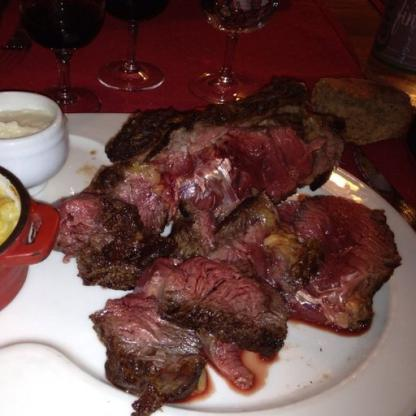beef: (93, 76, 332, 247), (222, 194, 392, 332), (96, 292, 213, 404), (150, 257, 278, 359), (56, 190, 157, 306)
